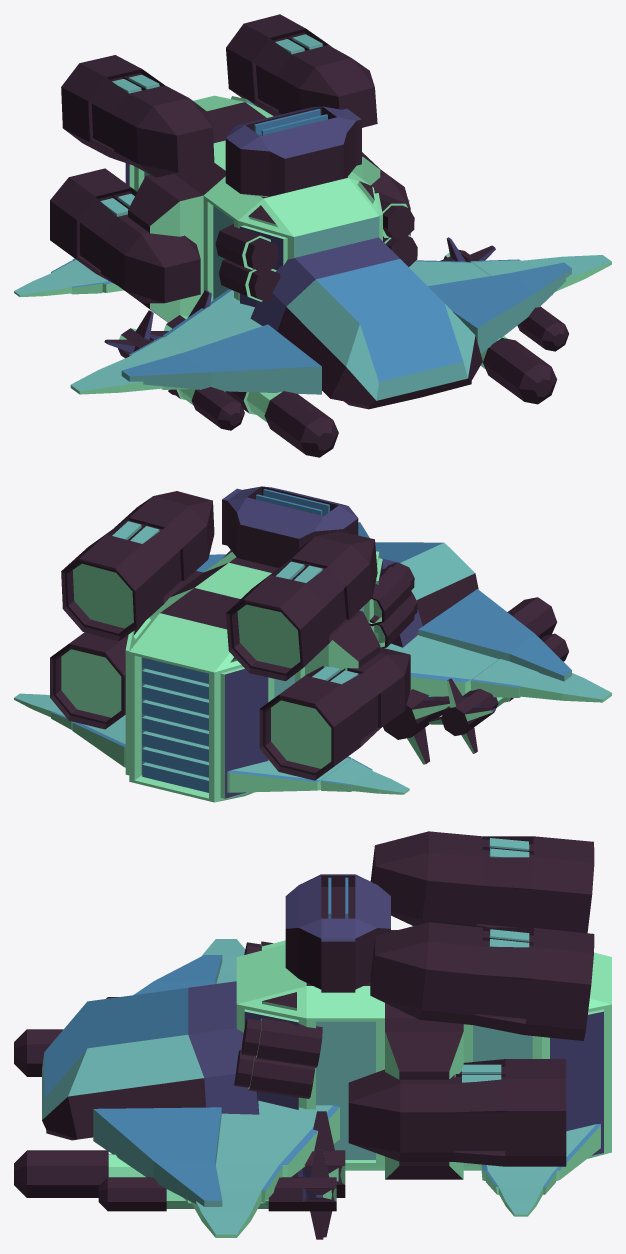
Rendered from SpaceShip2.fbx.
3 renders of one model, top to bottom at view 1: azimuth 30°, elevation 25°; view 2: azimuth 150°, elevation 25°; view 3: azimuth 270°, elevation 25°, orthographic. The views are drawn at different scales.
Parts seen in each view (by area): view 1: MainParts, GlowingParts; view 2: MainParts, GlowingParts; view 3: MainParts, GlowingParts.
Part boxes in pixels (x1=…): MainParts: x1=14, y1=14, x2=611, y2=457; GlowingParts: x1=100, y1=34, x2=327, y2=216; MainParts: x1=14, y1=486, x2=611, y2=802; GlowingParts: x1=112, y1=489, x2=358, y2=684; MainParts: x1=14, y1=831, x2=611, y2=1239; GlowingParts: x1=328, y1=838, x2=529, y2=1083.
Bounding box in the file's own units: 1159 × 513 × 990.
8 materials, 8 textured.
